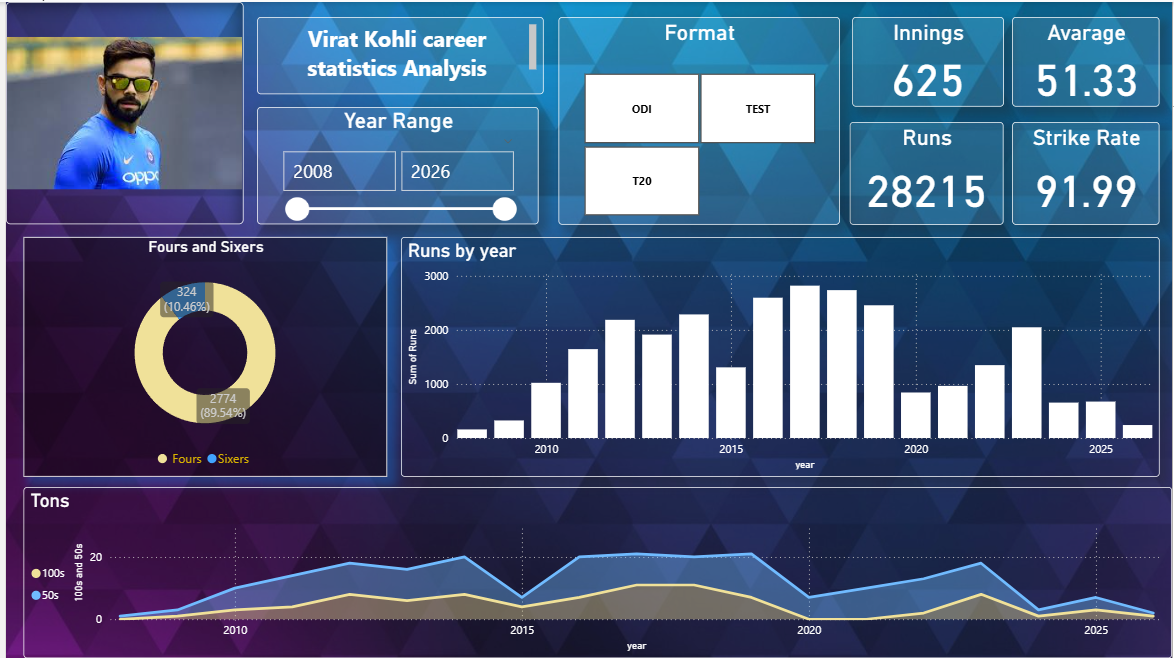

This screenshot's page, from the dashboard's own definition file:
{"tool":"powerbi","page":{"name":"Page 1","canvas":[1280,720],"ordinal":0},"visuals":[{"type":"image","box":[0,0,260.7,244.3],"z":0},{"type":"textbox","box":[275.8,16.5,314.2,85.1],"z":1000},{"type":"card","title":"Innings","fields":{"Values":["Sum(Sheet2.Innings)"]},"box":[929,16.5,166,98.8],"z":2000},{"type":"card","title":"Runs","fields":{"Values":["Sum(Sheet2.Runs)"]},"box":[926.2,131.7,168.8,112.5],"z":3000},{"type":"card","title":"Avarage","fields":{"Values":["Avg(Sheet2.Avg)"]},"box":[1104.6,16.5,161.9,98.8],"z":4000},{"type":"card","title":"Strike Rate","fields":{"Values":["Avg(Sheet2.SR)"]},"box":[1104.6,131.7,161.9,112.5],"z":5000},{"type":"slicer","title":"Format","fields":{"Values":["Sheet2.Format"]},"box":[606.5,16.5,308.7,227.8],"z":6000},{"type":"slicer","title":"Year Range","fields":{"Values":["Sheet2.year"]},"box":[275.8,115.3,308.7,129],"z":7000},{"type":"clusteredColumnChart","title":" Runs by year","fields":{"Y":["Sum(Sheet2.Runs)"],"Category":["Sheet2.year"]},"box":[433.6,258,832.9,263.5],"z":8000},{"type":"donutChart","fields":{"Y":["Sum(Sheet2.4s)","Sum(Sheet2.6s)"]},"box":[19.2,258,399.3,263.5],"z":9000},{"type":"stackedAreaChart","title":"Tons","fields":{"Y":["Sum(Sheet2.100)","Sum(Sheet2.50)"],"Category":["Sheet2.year"]},"box":[19.2,532.4,1261.1,188],"z":10000}]}

Visuals, with their boxes in screenshot pixels (x1, y1, x2, y2), scaled from the page's 1280x720 canvas onto the 1174x658 screenshot:
image: BBox(0, 0, 239, 223)
textbox: BBox(253, 15, 541, 93)
"Innings" card: BBox(852, 15, 1004, 105)
"Runs" card: BBox(849, 120, 1004, 223)
"Avarage" card: BBox(1013, 15, 1162, 105)
"Strike Rate" card: BBox(1013, 120, 1162, 223)
"Format" slicer: BBox(556, 15, 839, 223)
"Year Range" slicer: BBox(253, 105, 536, 223)
" Runs by year" clusteredColumnChart: BBox(398, 236, 1162, 477)
donutChart - Sum(Sheet2.4s) x Sum(Sheet2.6s): BBox(18, 236, 384, 477)
"Tons" stackedAreaChart: BBox(18, 487, 1173, 657)
